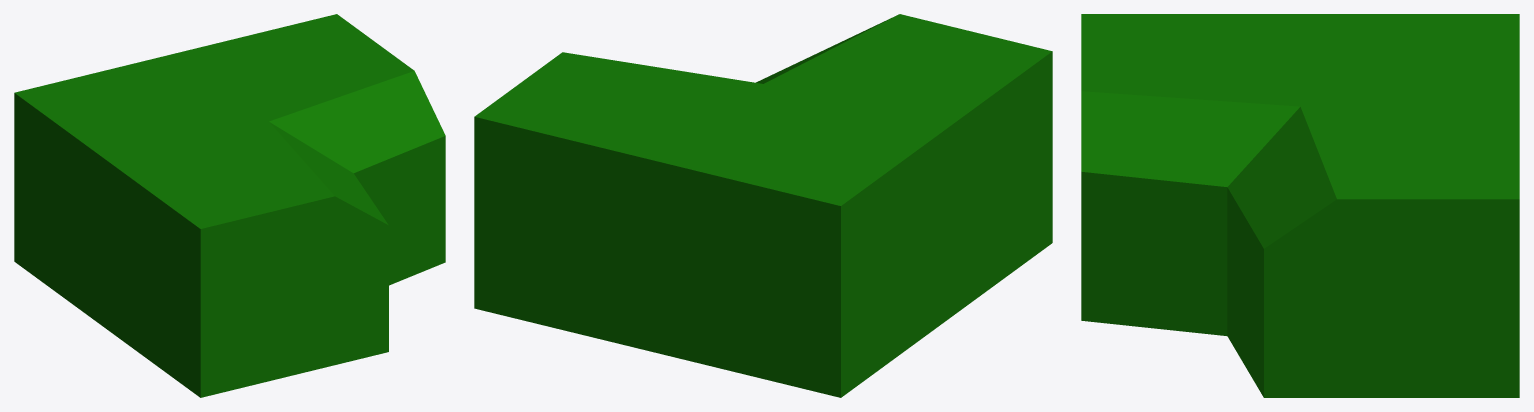
The model's file is water-angle.fbx.
3 renders of one model, left to right at view 1: azimuth 30°, elevation 25°; view 2: azimuth 150°, elevation 25°; view 3: azimuth 270°, elevation 25°, orthographic. The views are drawn at different scales.
Visible parts, largest first — view 1: water-angle.001, water-angle; view 2: water-angle, water-angle.001; view 3: water-angle, water-angle.001.
Part boxes in pixels (<box>): water-angle.001: <box>14,92,388,397</box>; water-angle: <box>15,14,445,285</box>; water-angle: <box>474,52,840,397</box>; water-angle.001: <box>756,14,1052,397</box>; water-angle: <box>1227,14,1519,397</box>; water-angle.001: <box>1081,14,1518,335</box>.
Size of the model in its own units: 200 by 100 by 200.
